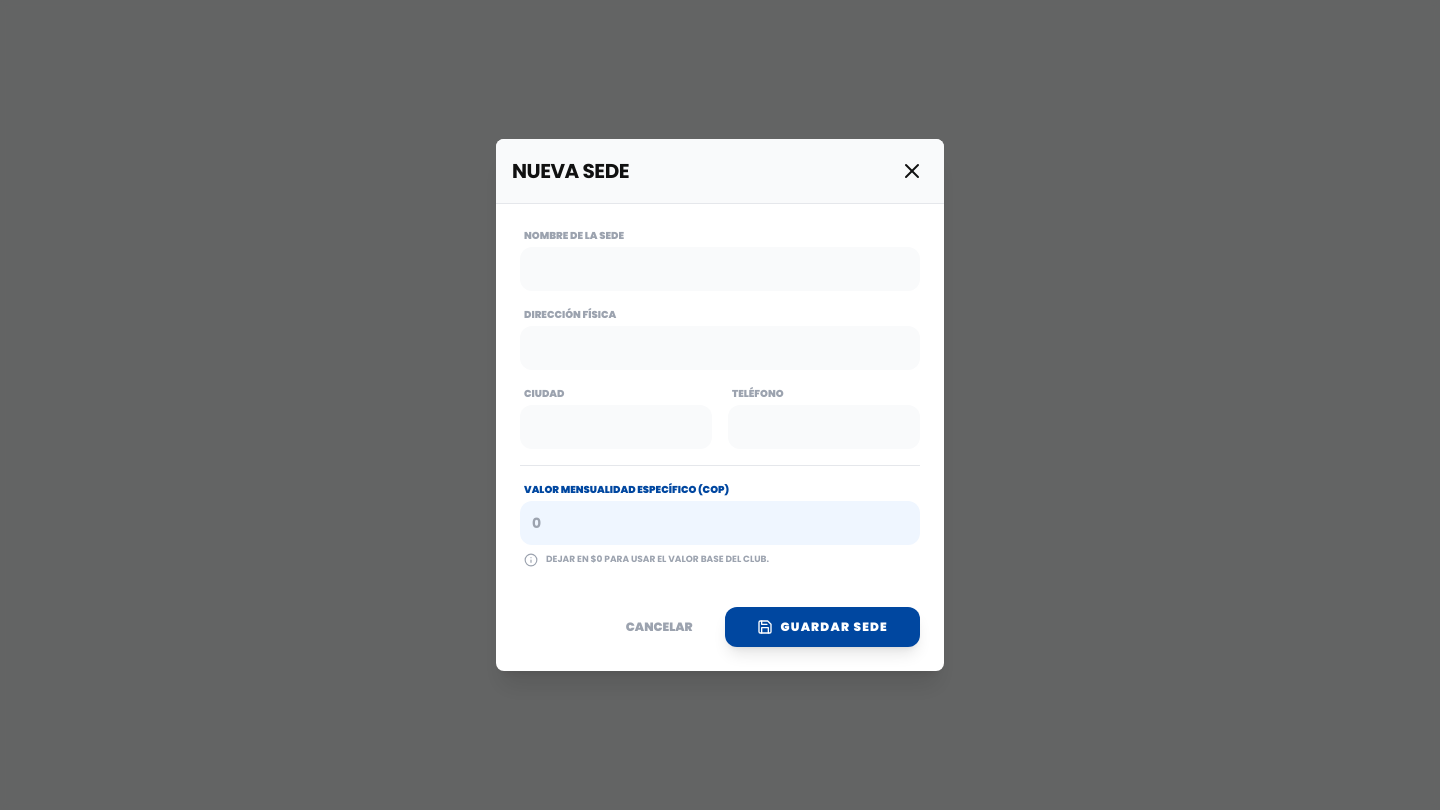
it: FormularioSede › muestra mensajes de error cuando los campos requeridos están vacíos
The image size is (1440, 810).
What coordinates should you click on to do the following:
click the button "Guardar Sede"
I would click on:
 (822, 627)
Its box is [725,607,920,647].
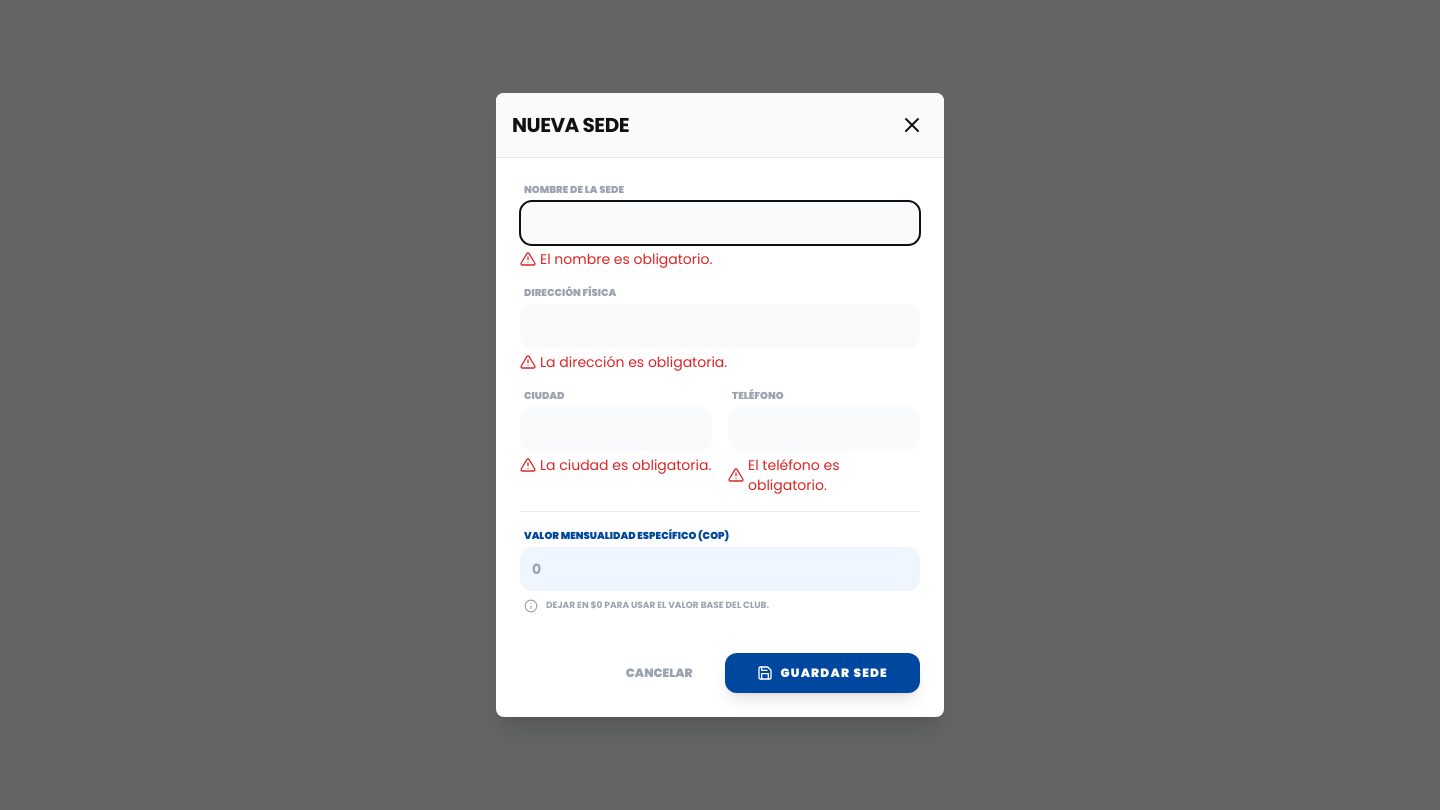
Expected: the text "El nombre es obligatorio." is shown, [540,249,712,269]
Expected: the text "La dirección es obligatoria." is shown, [540,352,727,372]
Expected: the text "La ciudad es obligatoria." is shown, [540,455,711,475]
